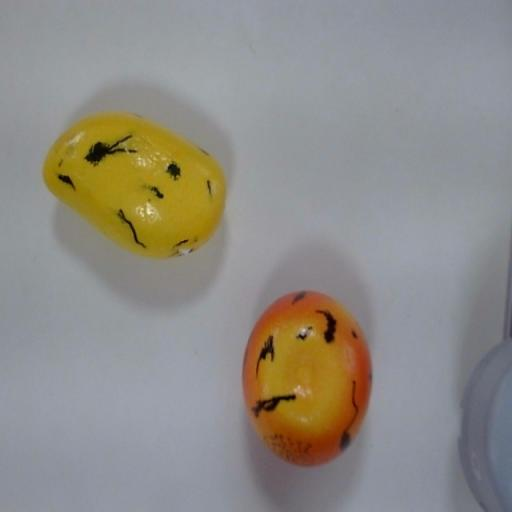Defective: (34, 104, 241, 300), (243, 286, 384, 474)
